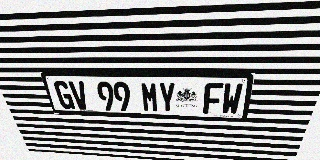9: (96, 81, 116, 111), (112, 81, 132, 111)
F: (203, 83, 223, 114)
G: (52, 81, 75, 109)
M: (140, 82, 159, 112)
V: (68, 81, 90, 110)
W: (221, 83, 243, 115)
Y: (158, 82, 175, 113)
